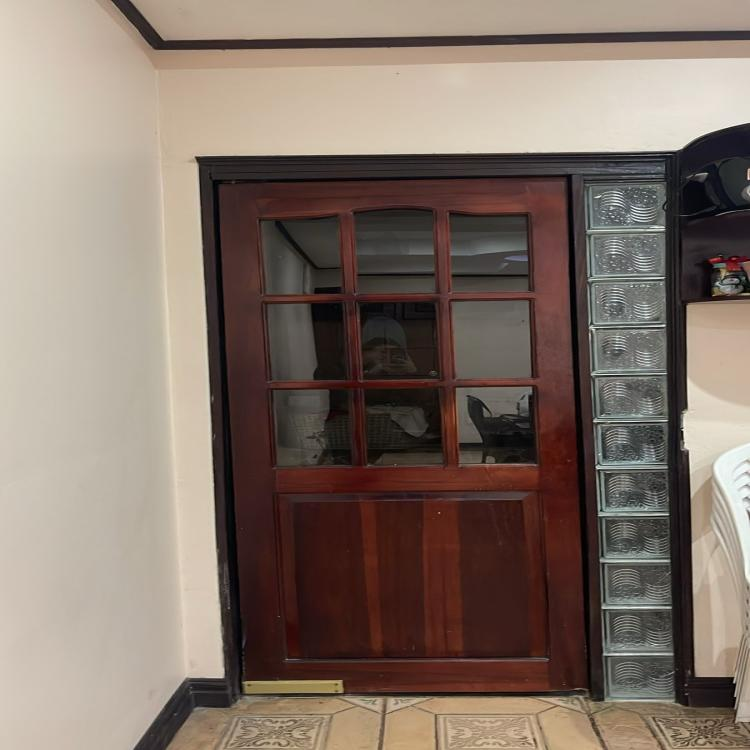ClosedDoor: (185, 161, 598, 706)
